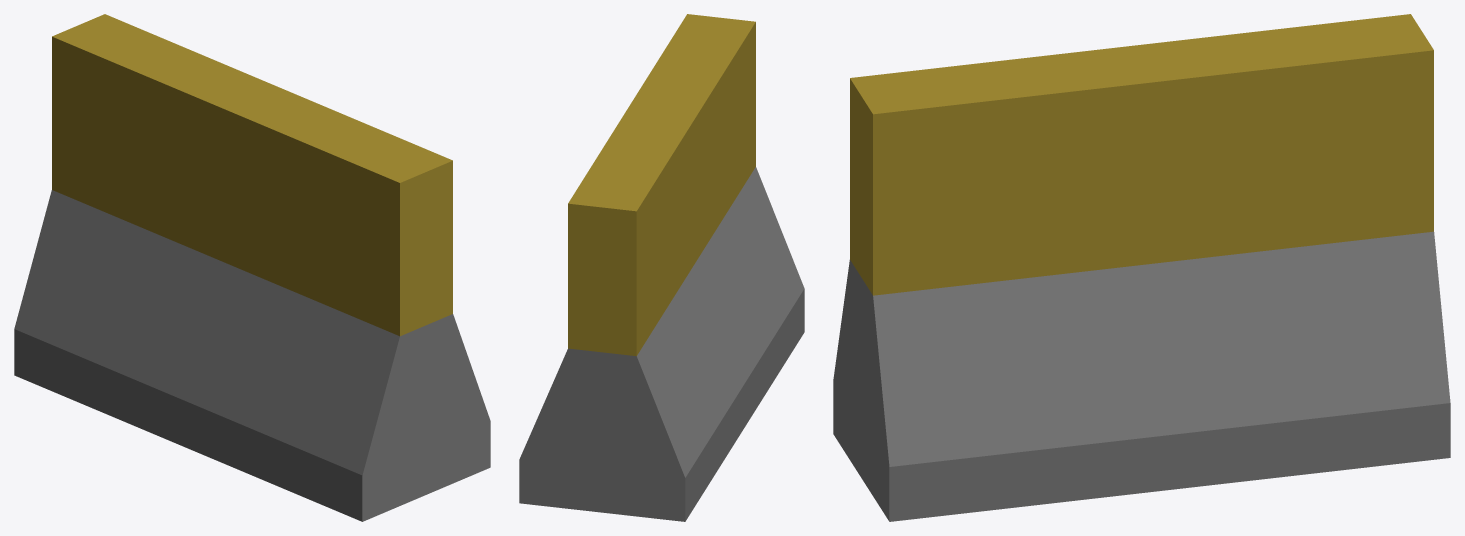
File: Traffic Blocker.fbx
3 views of the same model, side by side, from view 1: azimuth 30°, elevation 25°; view 2: azimuth 150°, elevation 25°; view 3: azimuth 270°, elevation 25° (orthographic). The views are drawn at different scales.
Visible parts, largest first — view 1: Traffic Blocker; view 2: Traffic Blocker; view 3: Traffic Blocker.
Part boxes in pixels (box(x1,y1,x2,y2)): Traffic Blocker: box(14, 14, 490, 521); Traffic Blocker: box(519, 14, 804, 521); Traffic Blocker: box(833, 14, 1450, 521).
Bounding box in the file's own units: 124 × 212 × 145.
